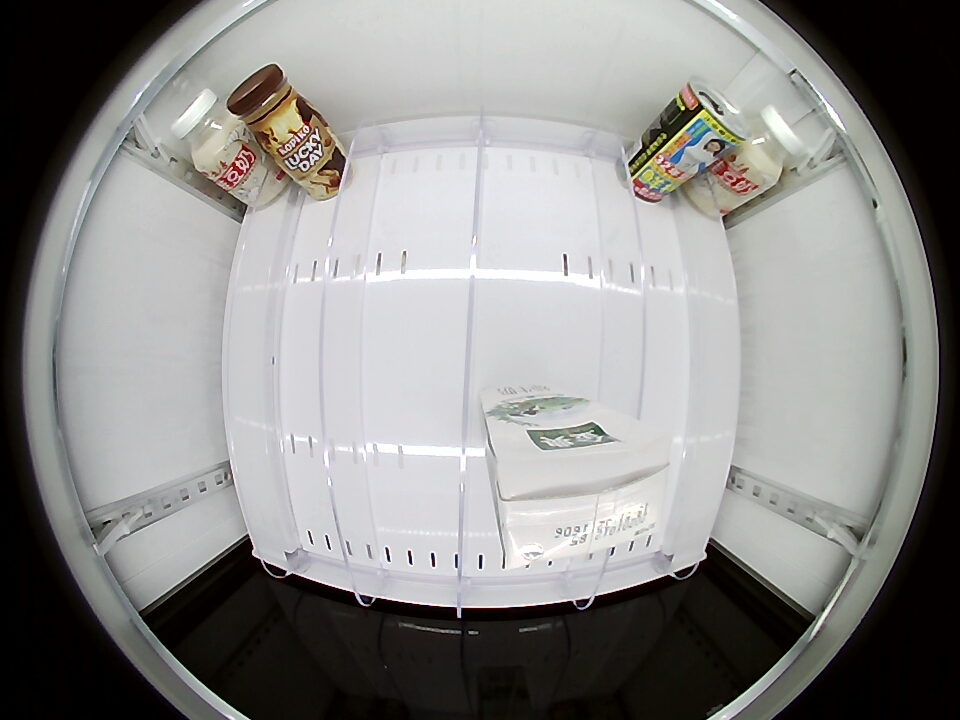jindian: (489, 425, 671, 568)
lujikafei: (226, 63, 311, 145)
weiweidounai: (172, 89, 243, 173), (737, 106, 805, 187)
yezhi: (675, 78, 747, 150)
